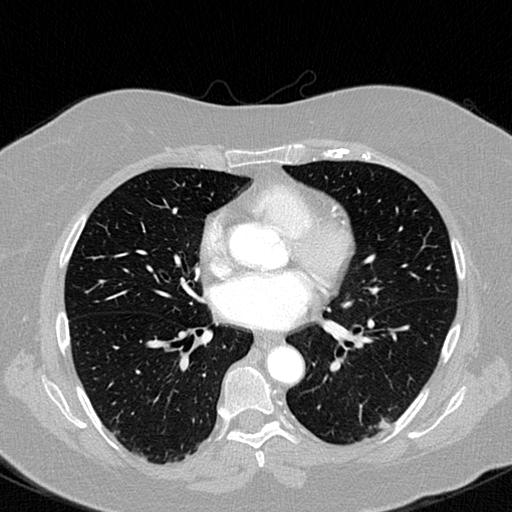nodule: (375, 416, 390, 431)
